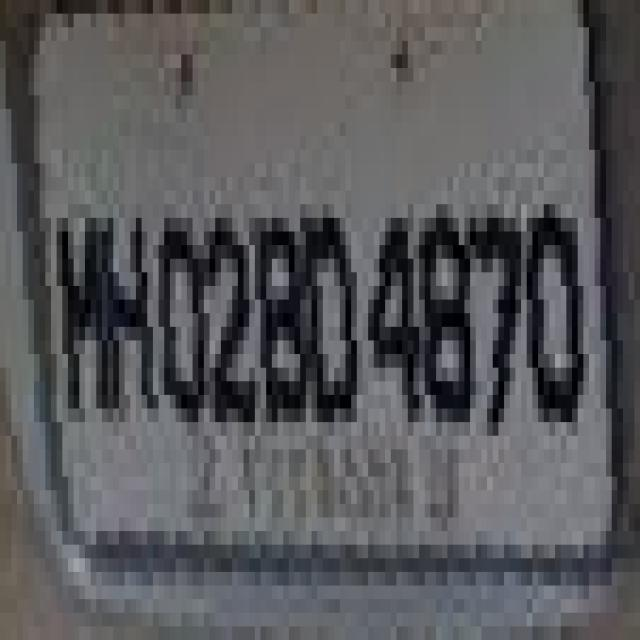license_plate: (6, 68, 600, 545)
